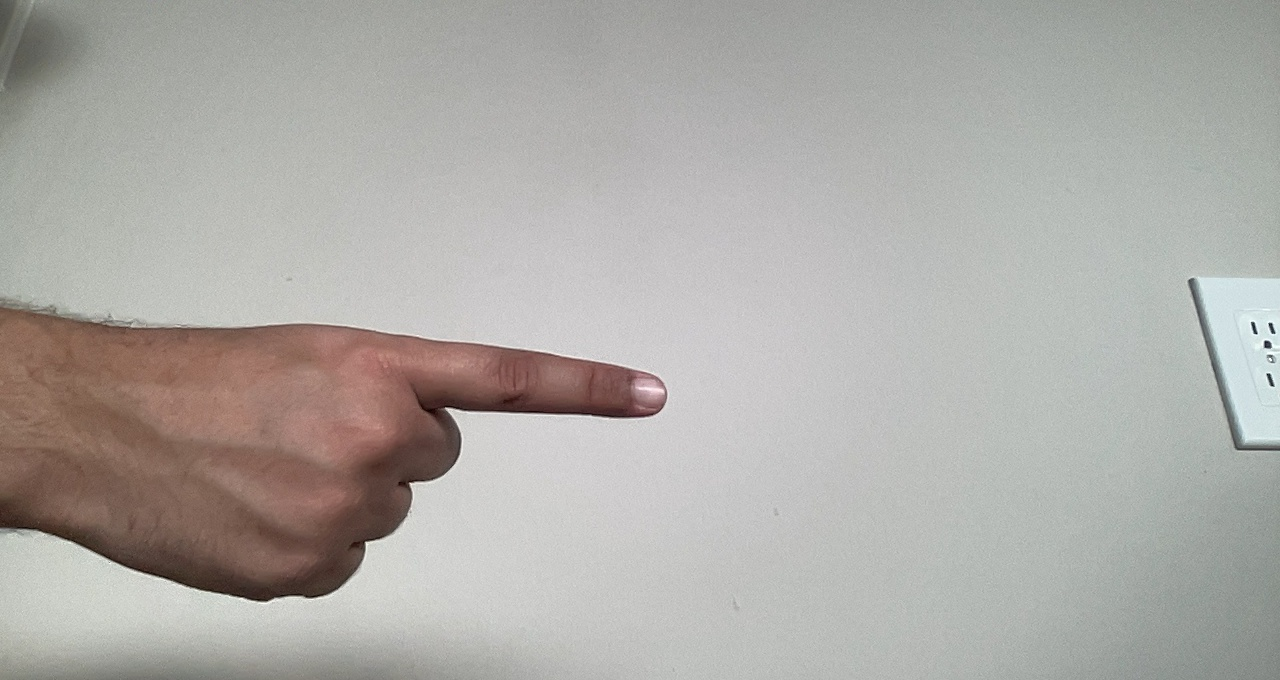fingerleft: (52, 284, 671, 605)
